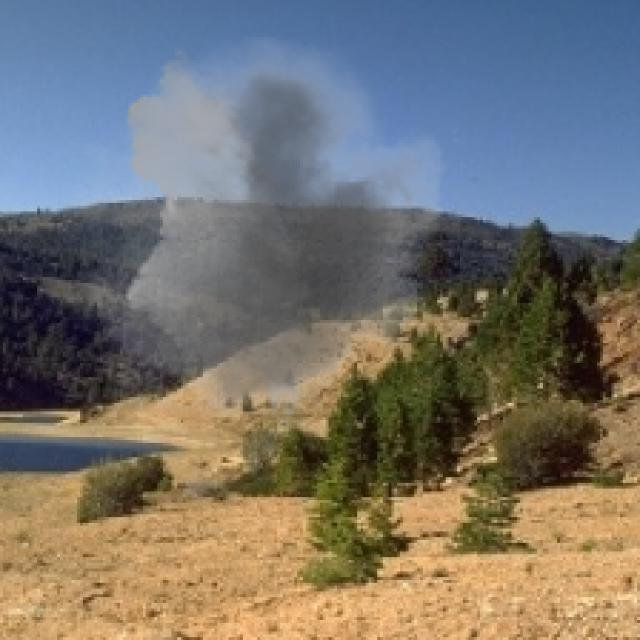smoke: (40, 34, 466, 440)
